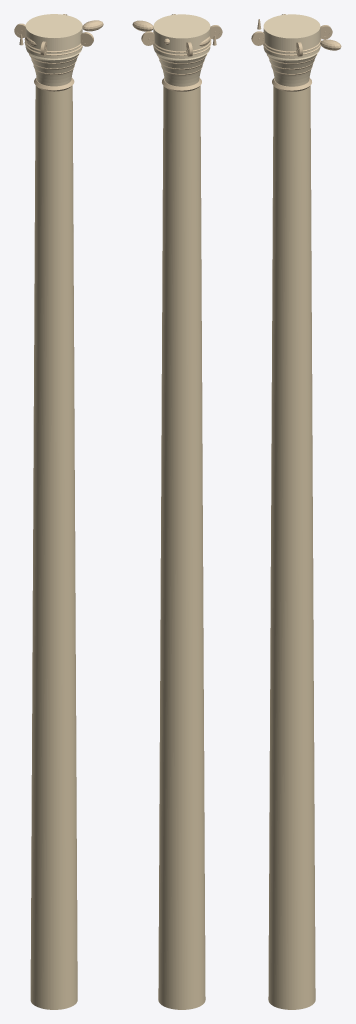
Rendered from ashoka_pillar_s3.glb.
3 renders of one model, left to right at view 1: azimuth 30°, elevation 25°; view 2: azimuth 150°, elevation 25°; view 3: azimuth 330°, elevation 25°, orthographic.
Parts seen in each view (by area): view 1: ashoka_pillar; view 2: ashoka_pillar; view 3: ashoka_pillar.
Part boxes in pixels (left/top/right/bottom): ashoka_pillar: left=14, top=14, right=103, bottom=1009; ashoka_pillar: left=132, top=14, right=222, bottom=1009; ashoka_pillar: left=251, top=14, right=341, bottom=1009.
Size of the model in its own units: 1.08 by 12 by 0.718.
